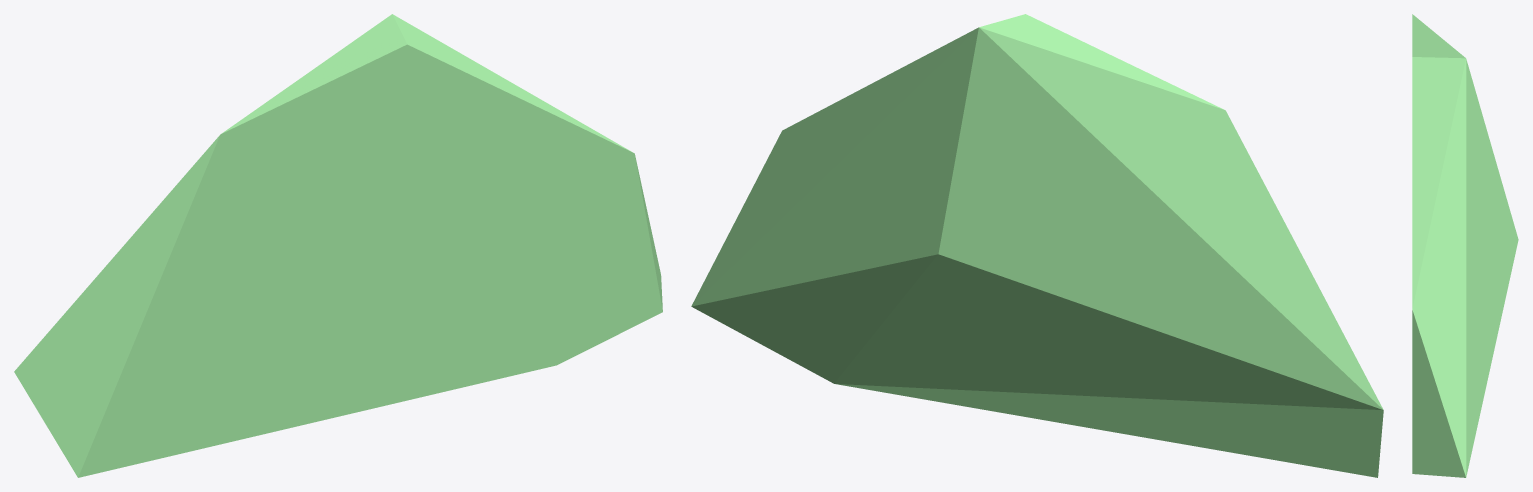
File: UMIRobot_UMIRobot_link_2_convex_coll_6.dae
The picture shows the model from 3 angles, left to right: view 1: azimuth 30°, elevation 25°; view 2: azimuth 150°, elevation 25°; view 3: azimuth 270°, elevation 25°; orthographic projection. The views are drawn at different scales.
Parts seen in each view (by area): view 1: node; view 2: node; view 3: node.
Part boxes in pixels (left/top/right/bottom): node: left=14, top=14, right=662, bottom=477; node: left=691, top=14, right=1383, bottom=477; node: left=1412, top=14, right=1518, bottom=477.
Size of the model in its own units: 0.0242 by 0.0131 by 0.00375.
